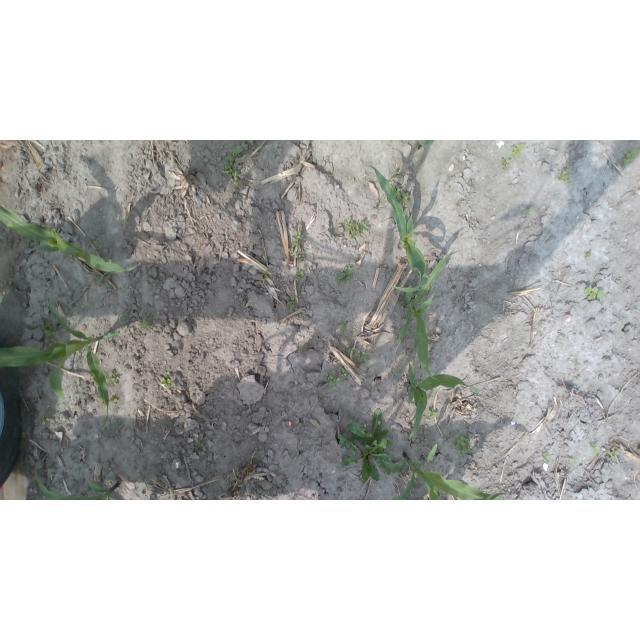Maize: (1, 299, 120, 428), (1, 207, 140, 273), (366, 164, 427, 293), (395, 254, 448, 383), (386, 444, 506, 500), (406, 364, 481, 439), (34, 465, 121, 500), (417, 141, 435, 150)
Weeds: (336, 408, 395, 484), (224, 148, 245, 189), (344, 345, 372, 366), (340, 218, 368, 238), (453, 435, 475, 458), (391, 184, 410, 204), (585, 286, 606, 301), (40, 321, 57, 339), (336, 265, 352, 284), (623, 148, 640, 165), (324, 373, 342, 387), (139, 317, 153, 332), (511, 143, 525, 157), (160, 372, 172, 388), (555, 171, 569, 184), (106, 372, 119, 384), (287, 297, 298, 310), (521, 206, 533, 217), (297, 252, 307, 263), (501, 157, 511, 168), (340, 320, 349, 332), (296, 269, 305, 281), (339, 368, 349, 378), (195, 441, 206, 450), (428, 408, 439, 417), (592, 445, 601, 456), (609, 452, 619, 461), (40, 415, 49, 425), (108, 396, 118, 405), (293, 232, 304, 240), (543, 453, 550, 462), (259, 270, 268, 277), (288, 247, 296, 254), (392, 171, 401, 177), (585, 252, 592, 259), (243, 140, 254, 144), (290, 242, 300, 246), (568, 458, 574, 464), (336, 362, 342, 367), (424, 274, 430, 279)
